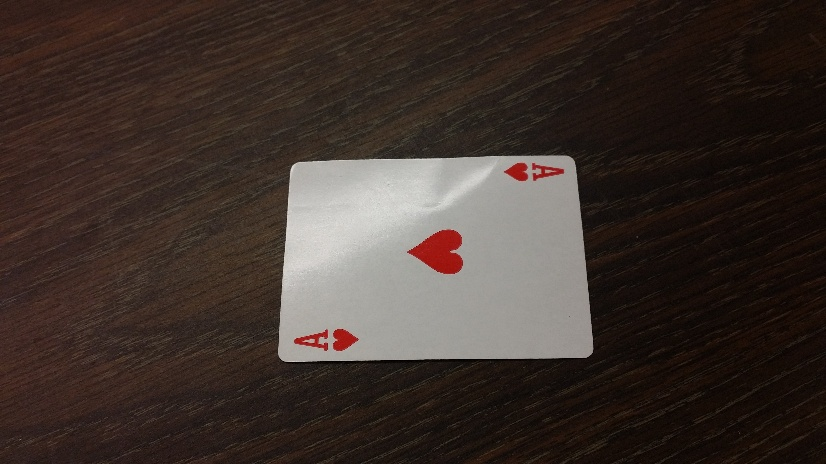Ha: (290, 324, 362, 355), (503, 159, 568, 184)
